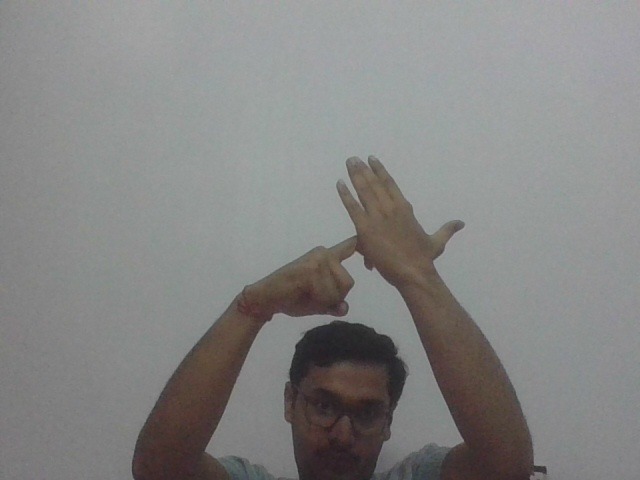R: (280, 149, 465, 317)
